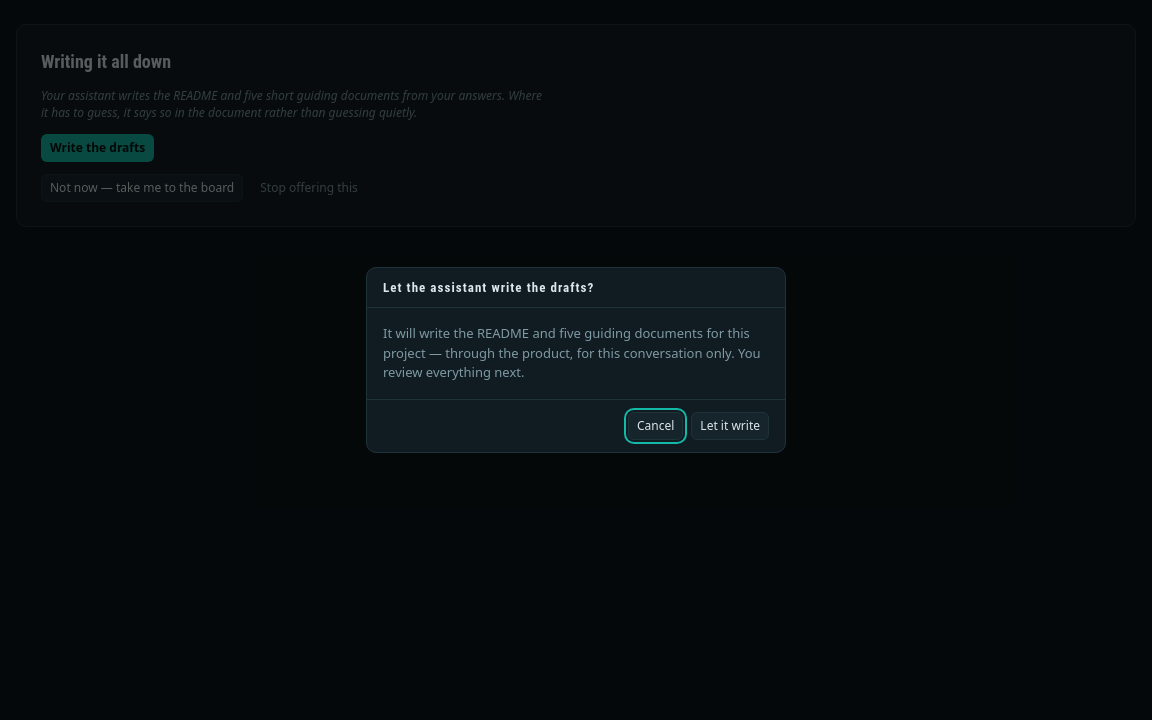
Scenario: the docs step › shows what it is working on, and each summary as it lands
The width and height of the screenshot is (1152, 720).
Click the button "Let it write". click: [730, 426]
box: x1=691 y1=412 x2=769 y2=440
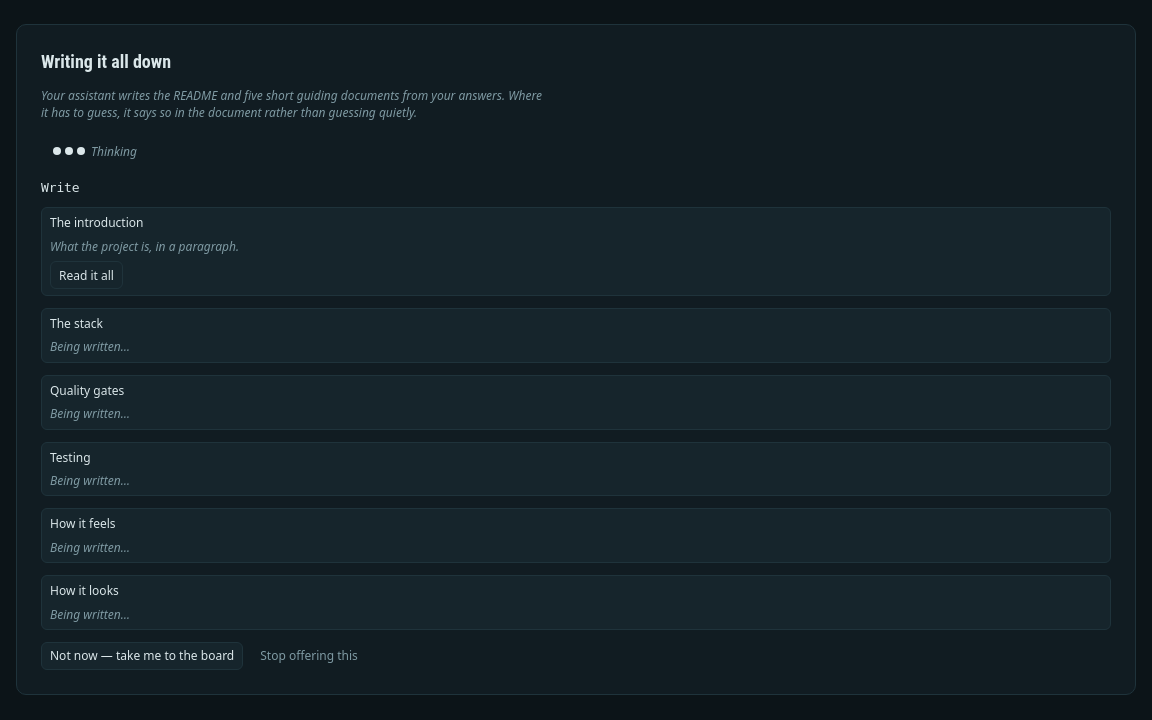
expect the text "Write" is shown: met, box x1=41 y1=180 x2=80 y2=195
expect the text "What the project is, in a paragraph." is shown: met, box x1=50 y1=238 x2=239 y2=255
expect the text "The introduction" is shown: met, box x1=50 y1=214 x2=144 y2=231
